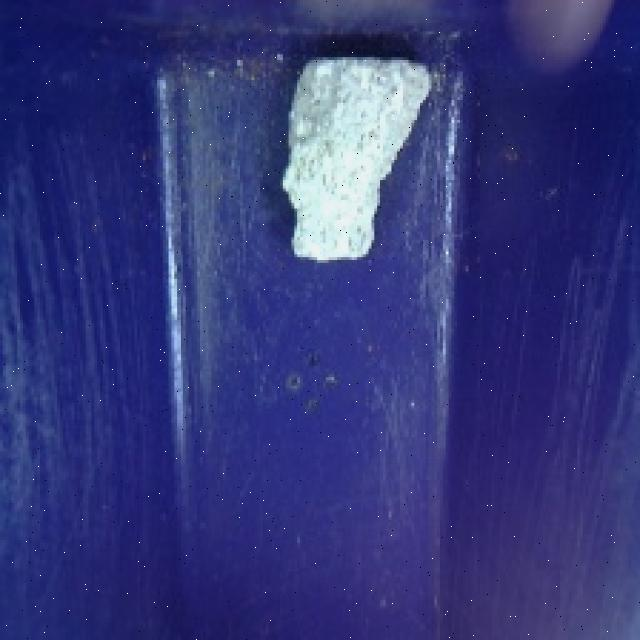brick: (262, 44, 444, 274)
